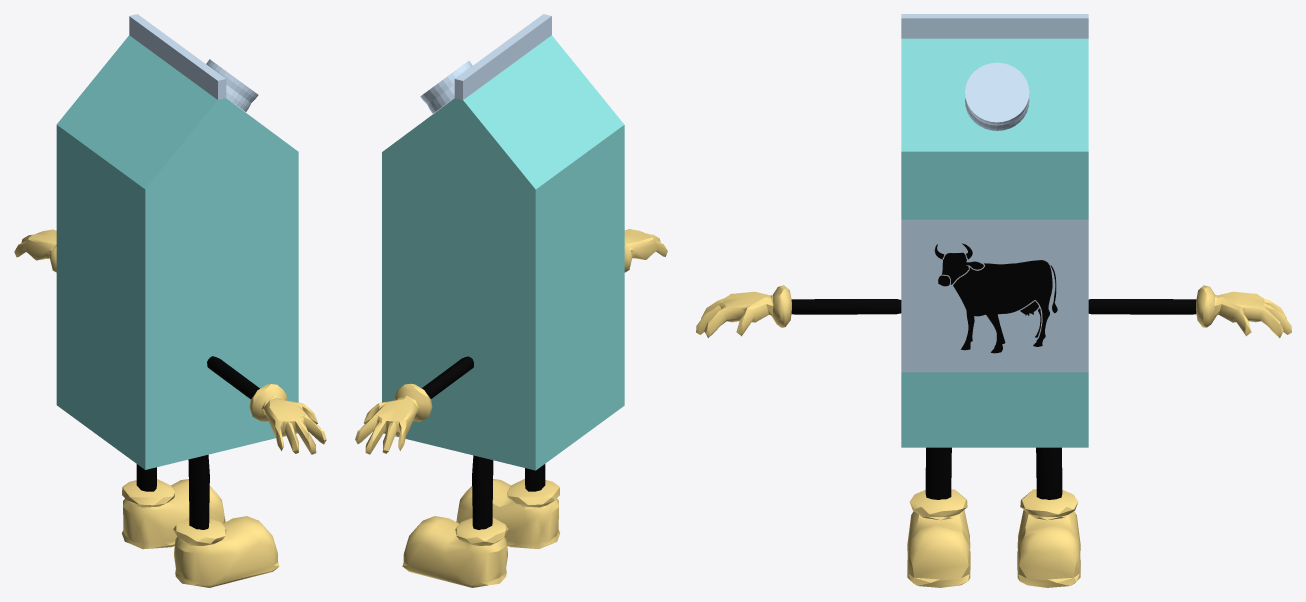
The model's file is Leche.fbx.
3 renders of one model, left to right at view 1: azimuth 30°, elevation 25°; view 2: azimuth 150°, elevation 25°; view 3: azimuth 270°, elevation 25°, orthographic. The views are drawn at different scales.
Parts seen in each view (by area): view 1: Cubo, Cubo.005, Cubo.001; view 2: Cubo, Cubo.001, Cubo.005; view 3: Cubo, Cubo.005, Cubo.001, png-clipart-cattle-computer-icons-cow-animals-cow-goat-famil.
Boxes of the visible parts, x1,y1,x2,y2 form: Cubo: (56,14,298,469); Cubo.005: (173,356,326,587); Cubo.001: (14,229,225,549); Cubo: (382,14,624,470); Cubo.001: (355,356,508,587); Cubo.005: (456,229,667,548); Cubo: (901,14,1088,447); Cubo.005: (696,285,970,587); Cubo.001: (1017,285,1291,587); png-clipart-cattle-computer-icons-cow-animals-cow-goat-famil: (934,243,1057,353).
Size of the model in its own units: 589 by 1840 by 1838.
Materials: 7 (1 with a texture image).
